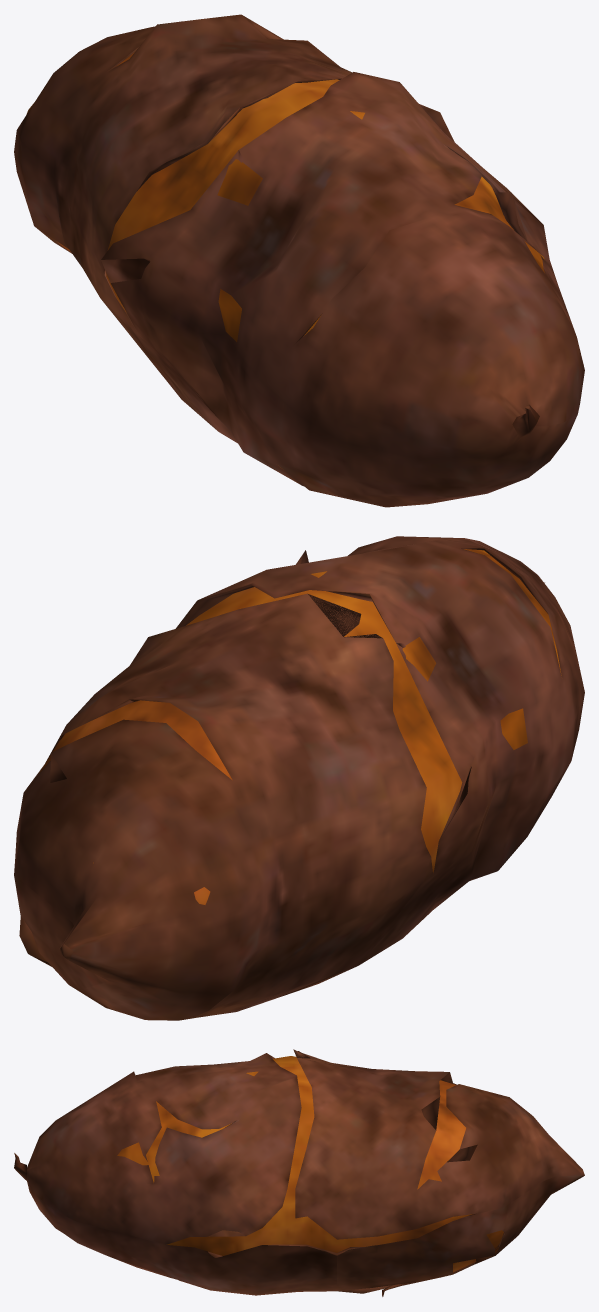
File: BBQPotato.obj
3 views of the same model, one above another, from view 1: azimuth 30°, elevation 25°; view 2: azimuth 150°, elevation 25°; view 3: azimuth 270°, elevation 25° (orthographic). The views are drawn at different scales.
Visible parts, largest first — view 1: polySurface3(Clone)_Quality_55; view 2: polySurface3(Clone)_Quality_55; view 3: polySurface3(Clone)_Quality_55.
Boxes of the visible parts, x1,y1,x2,y2 form: polySurface3(Clone)_Quality_55: (14,14,584,507); polySurface3(Clone)_Quality_55: (14,536,584,1020); polySurface3(Clone)_Quality_55: (14,1049,584,1296).
Bounding box in the file's own units: 0.9552 × 0.8992 × 2.1.
